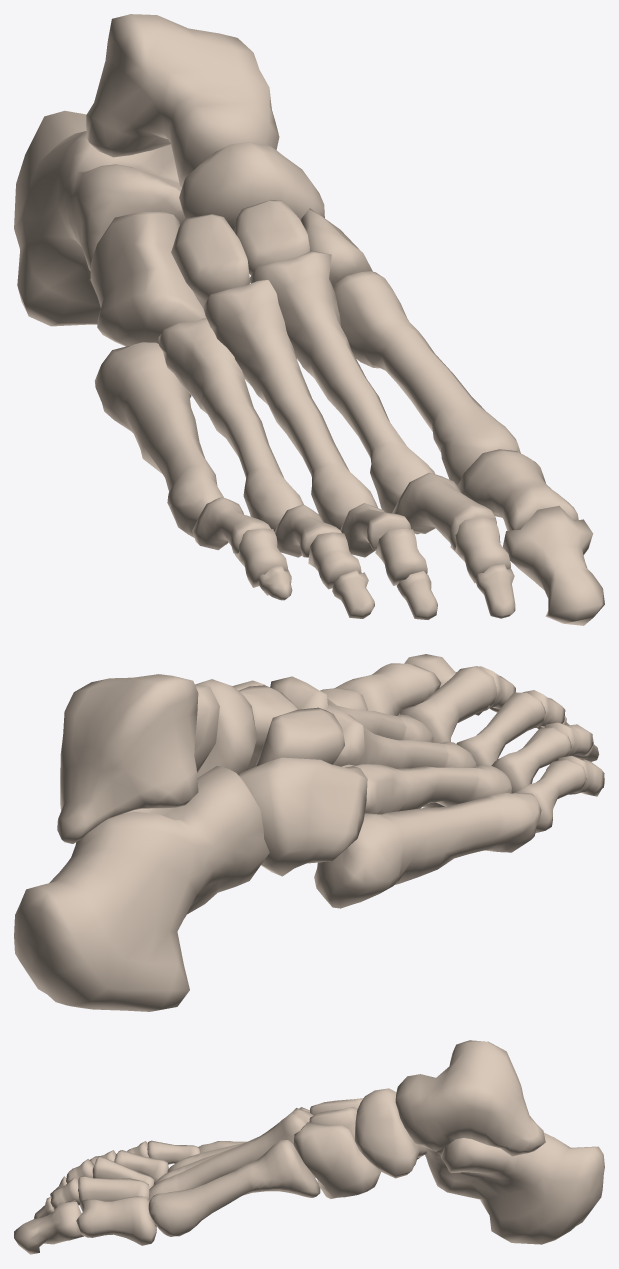
File: Foot.gltf
The picture shows the model from 3 angles, top to bottom: view 1: azimuth 30°, elevation 25°; view 2: azimuth 150°, elevation 25°; view 3: azimuth 270°, elevation 25°; orthographic projection. The views are drawn at different scales.
Visible parts, largest first — view 1: Foot; view 2: Foot; view 3: Foot.
Boxes of the visible parts, x1,y1,x2,y2 form: Foot: [14, 14, 604, 625]; Foot: [14, 654, 604, 1011]; Foot: [14, 1040, 604, 1254].
Bounding box in the file's own units: 0.2163 × 0.2272 × 0.6207.
